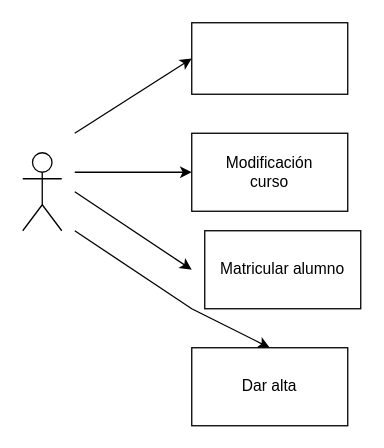
Image size: 384x448. Some labels were removed from this diagram. Here are the shapes that lost their labels. From the top down, the centre of each, then its label:
pixel 269 57: Dar baja
pixel 41 191: Actor
